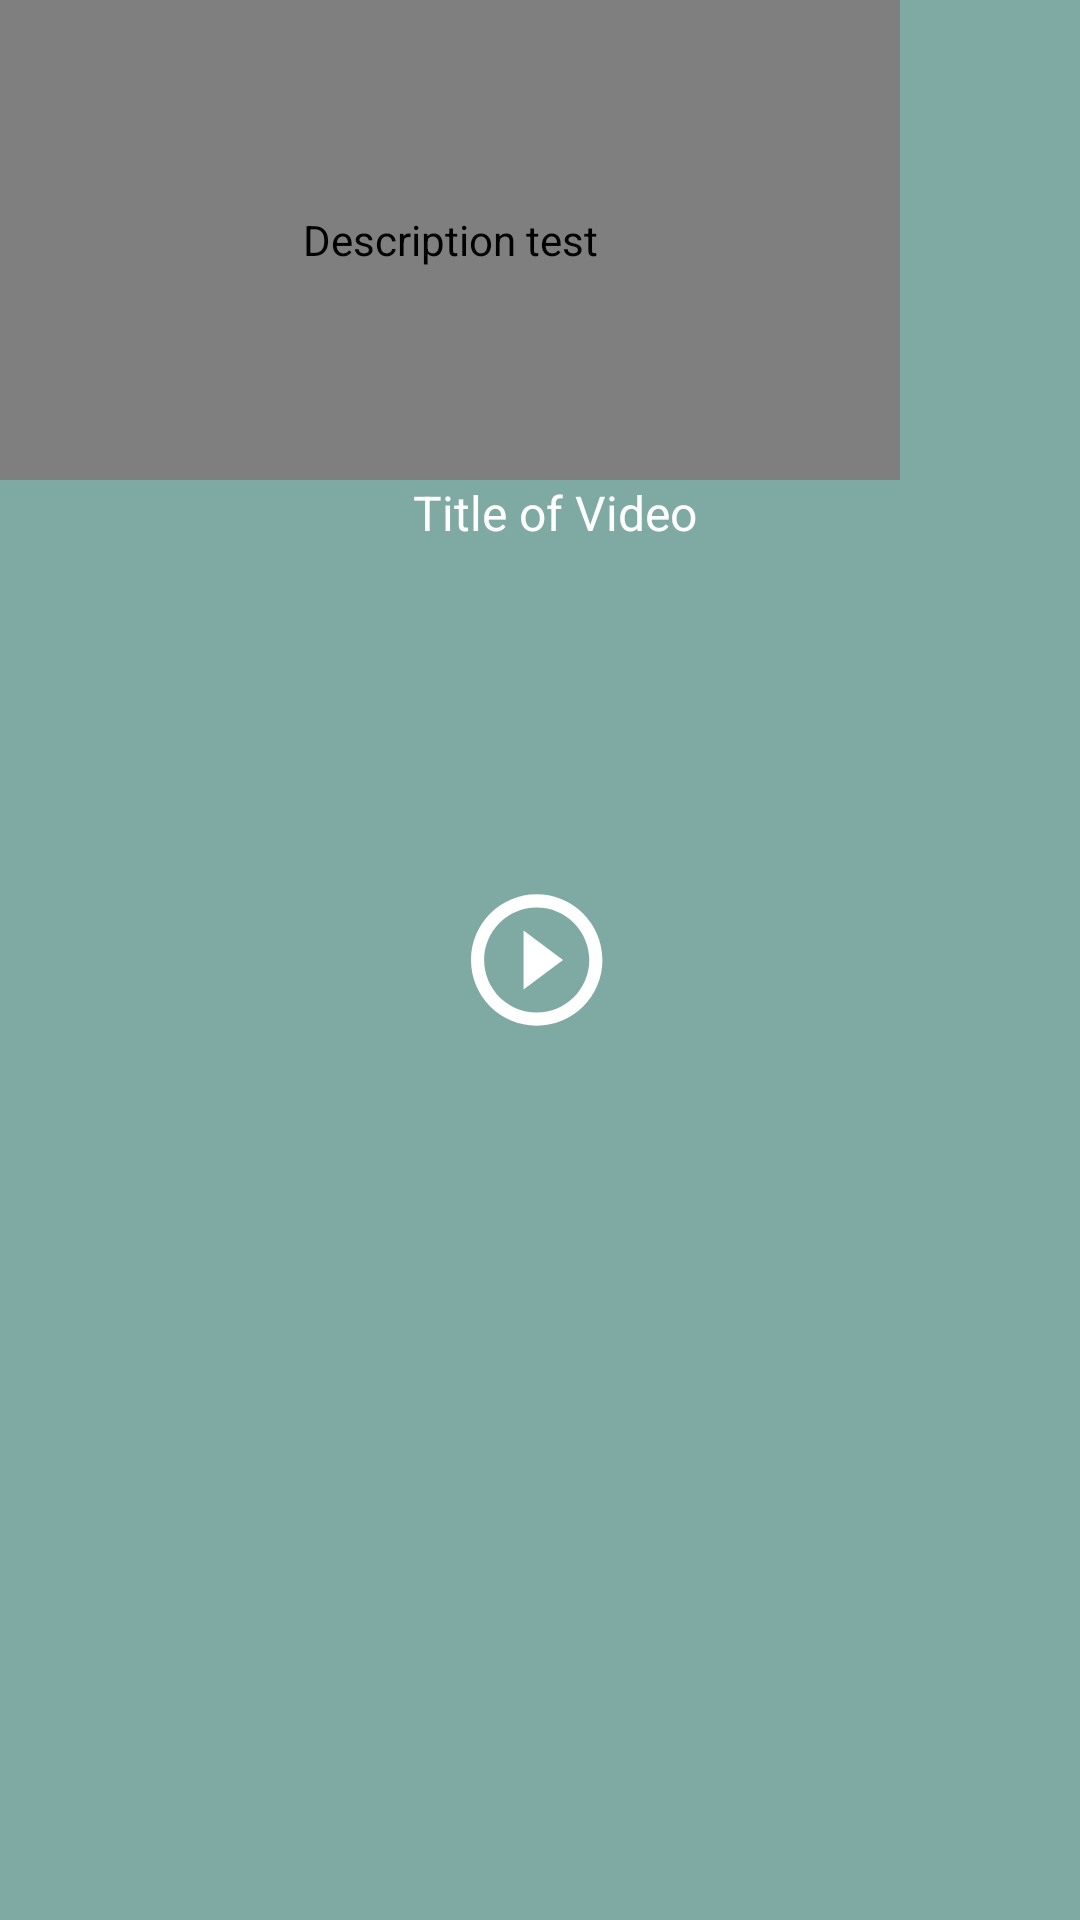

Named icons in this screenshot (1080 × 1920) and their centers, [x,y]:
play: [537,960]
